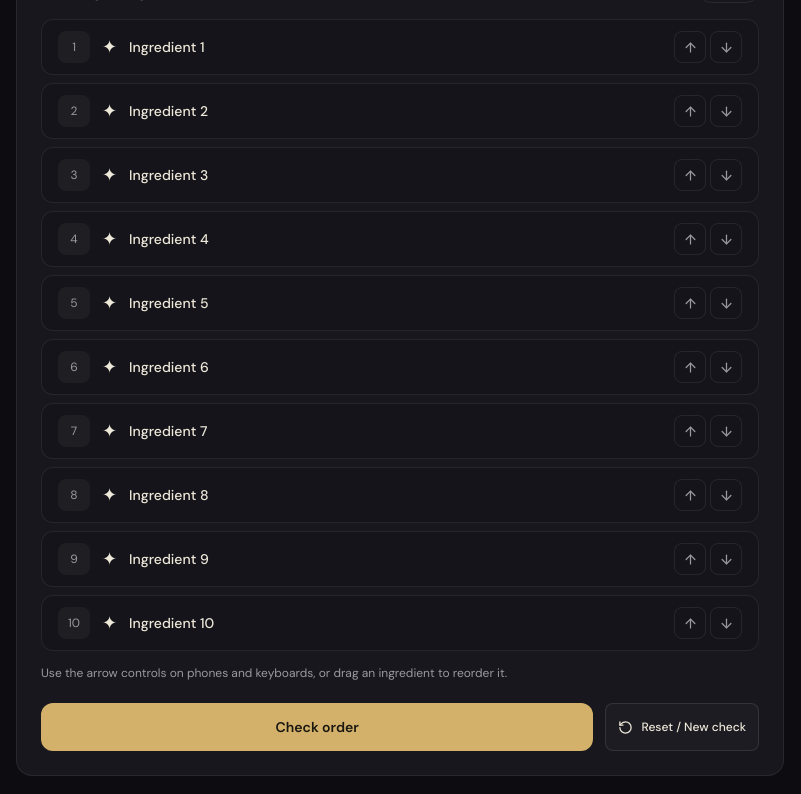
Scenario: ingredient order checker › submits all ten ingredient UUIDs and shows only CORRECT
(page scrolled)
Expected: the text "Ingredient 10" is shown, top-left (129, 614), bottom-right (214, 632)
Click the button "Check order": point(317, 727) top-left (41, 703), bottom-right (594, 751)
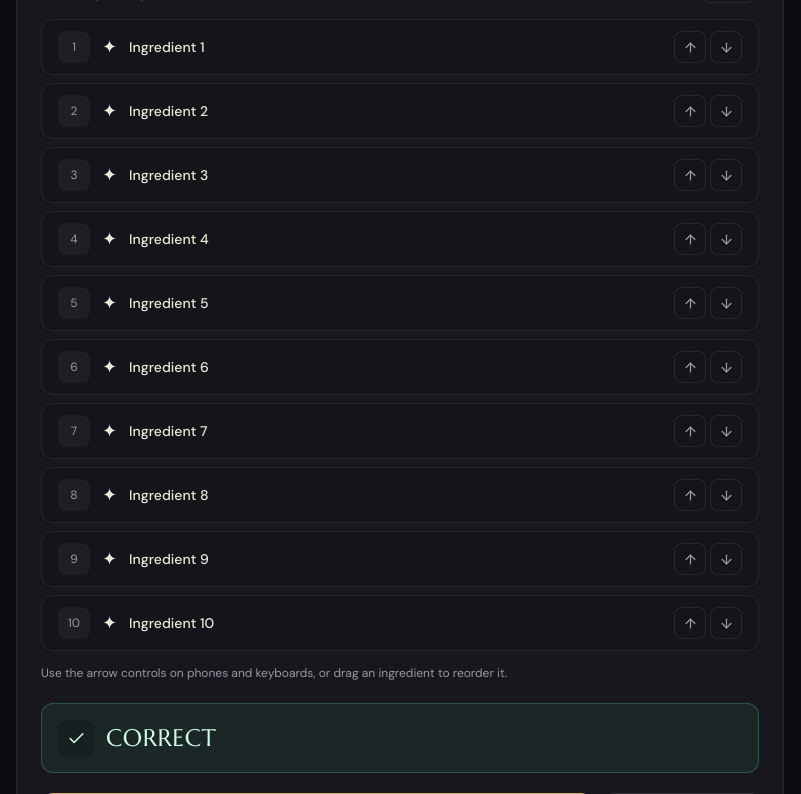
Result: the message reads "CORRECT" at top-left (106, 723), bottom-right (216, 753)
